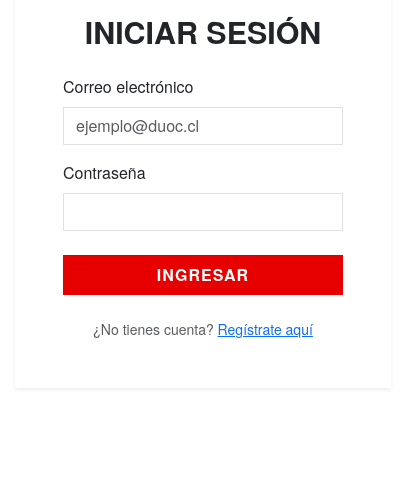
Test case: Componente Login › muestra el mensaje de error SOLO cuando la validación falla (renderizado condicional)
Note: Enviamos el formulario vacío
Step 1. Click the button "INGRESAR" → [203, 274], box [63, 254, 343, 294]
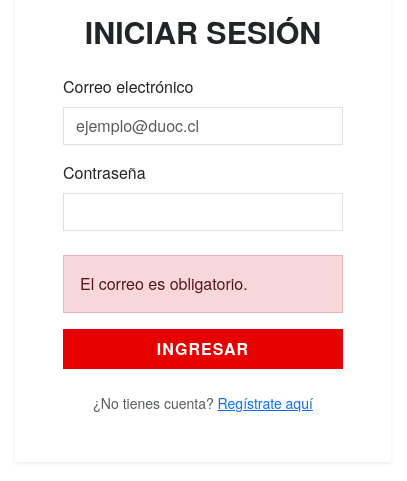
Result: the text "El correo es obligatorio." is shown at [63, 254, 343, 312]
